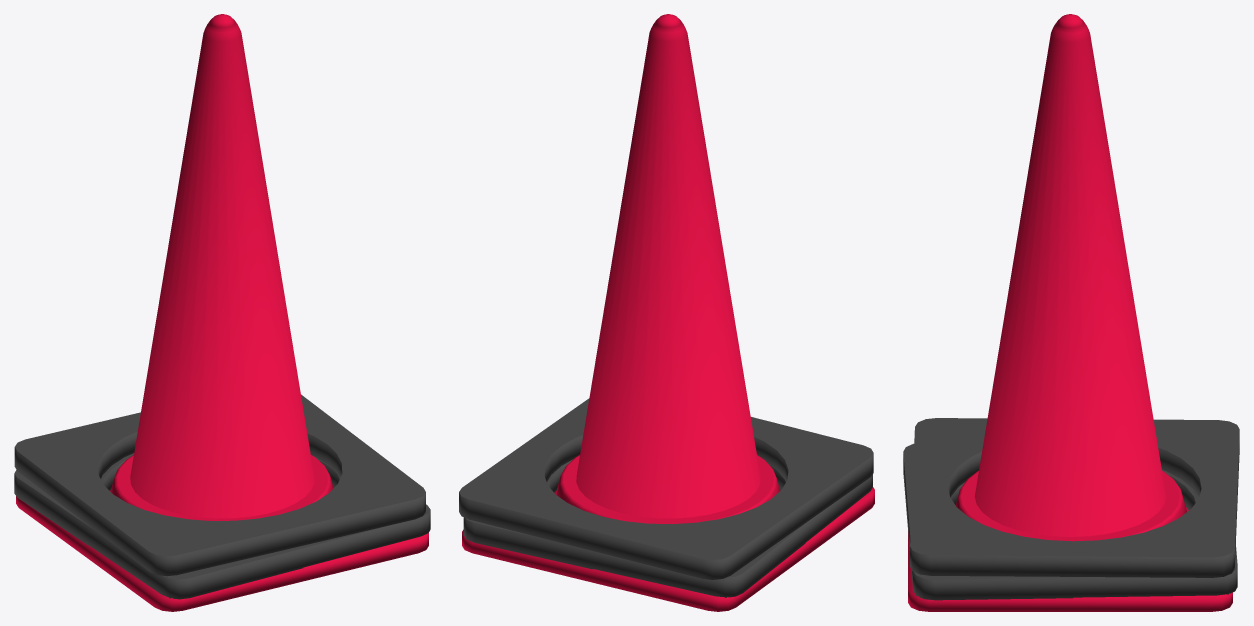
The picture shows the model from 3 angles, left to right: view 1: azimuth 30°, elevation 25°; view 2: azimuth 150°, elevation 25°; view 3: azimuth 270°, elevation 25°; orthographic projection. The views are drawn at different scales.
Visible parts, largest first — view 1: Cube.003; view 2: Cube.003; view 3: Cube.003.
Part boxes in pixels (x1,y1,x2,y2): Cube.003: (14, 14, 430, 611); Cube.003: (459, 14, 874, 611); Cube.003: (903, 14, 1239, 611).
Size of the model in its own units: 0.4016 by 0.6996 by 0.404.
